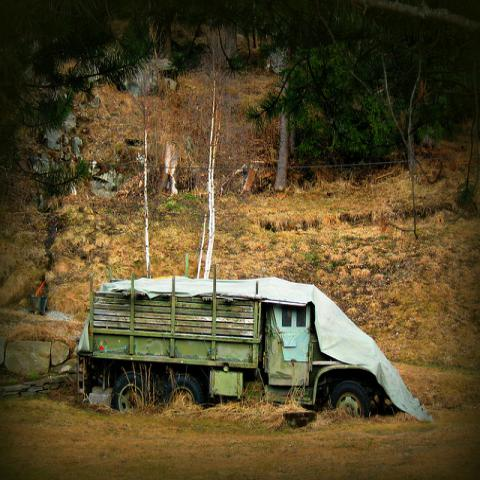truck: (78, 267, 380, 412)
